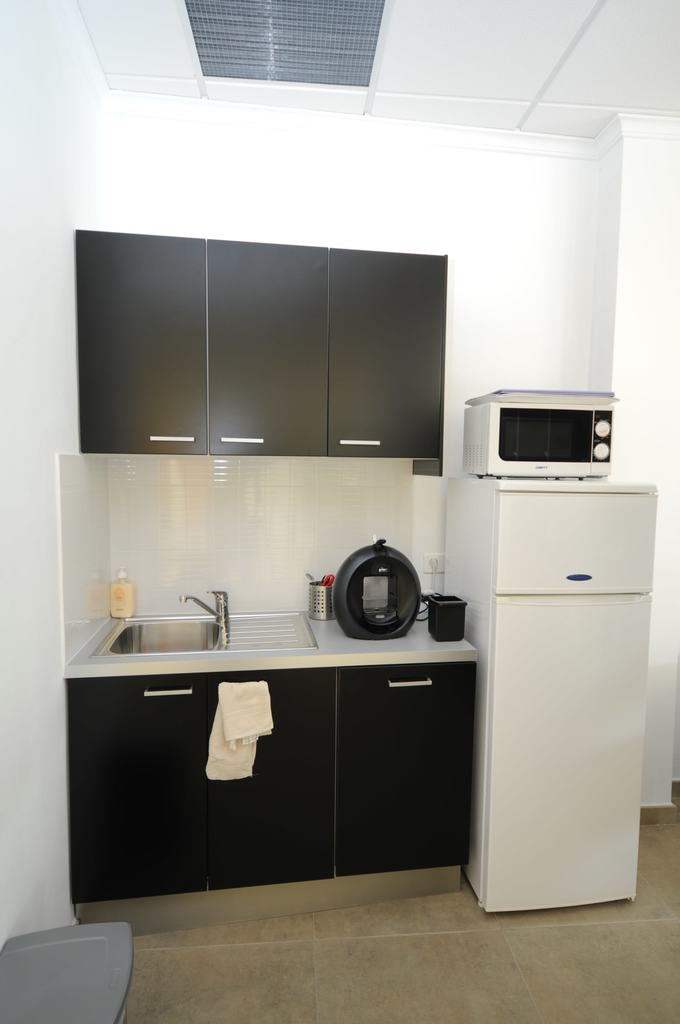cabinet door: (73, 238, 207, 452), (75, 676, 202, 875), (338, 674, 475, 846), (207, 253, 330, 444), (328, 257, 443, 457), (208, 687, 334, 860)
handle: (136, 670, 200, 705), (145, 420, 200, 458), (339, 418, 384, 452), (387, 670, 435, 698), (218, 424, 265, 449), (564, 566, 596, 596)
refrigerator door: (500, 599, 635, 889), (498, 496, 649, 603)
